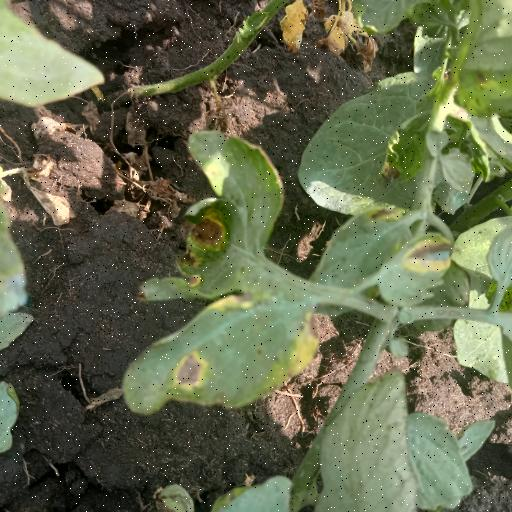Tomato_Brown_Spots: (122, 118, 327, 428)
